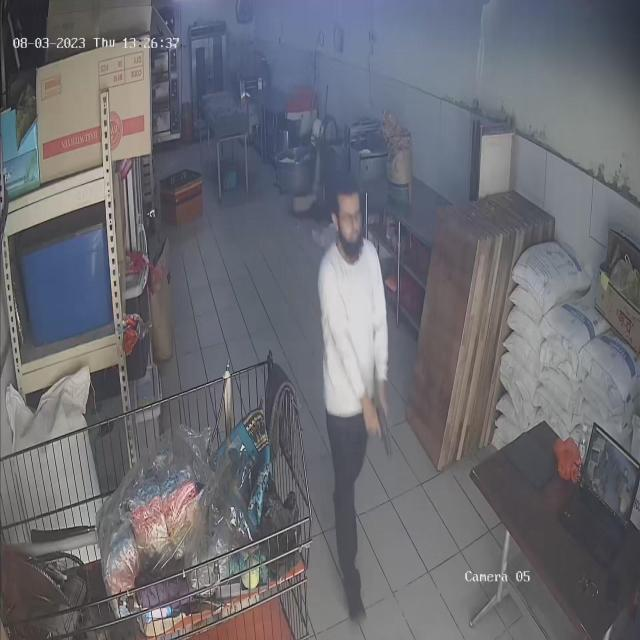Gun: (358, 398, 402, 463)
